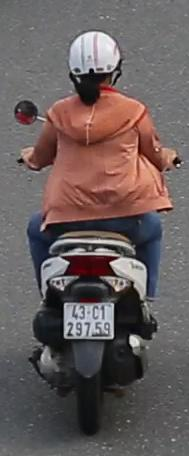LP: (60, 300, 117, 345)
helmet: (67, 27, 125, 99)
